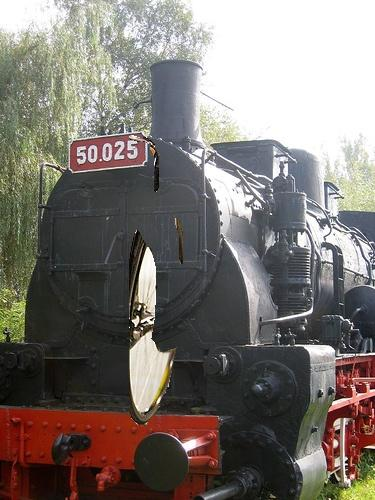tampered: (130, 136, 183, 426)
